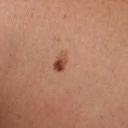Melanoma: (49, 53, 67, 75)
